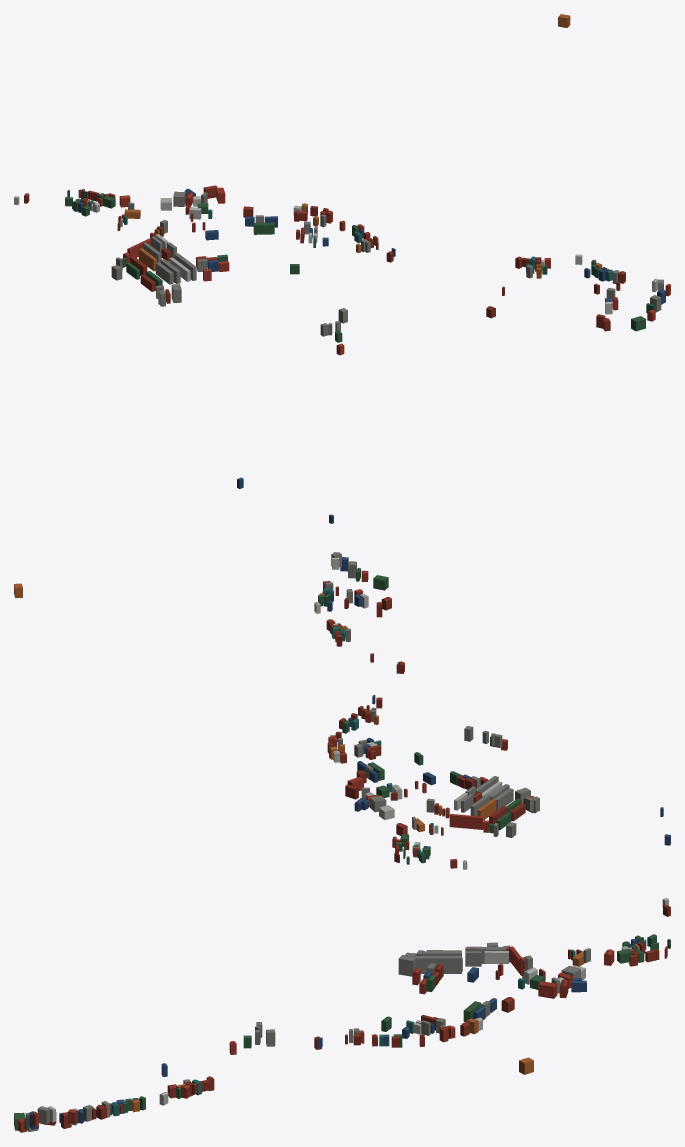
The model's file is near-15-27355-14866.7b83326b.glb.
3 renders of one model, top to bottom at view 1: azimuth 30°, elevation 25°; view 2: azimuth 150°, elevation 25°; view 3: azimuth 270°, elevation 25°, orthographic. The views are drawn at different scales.
Bounding box in the file's own units: 1171 × 586 × 1122.
